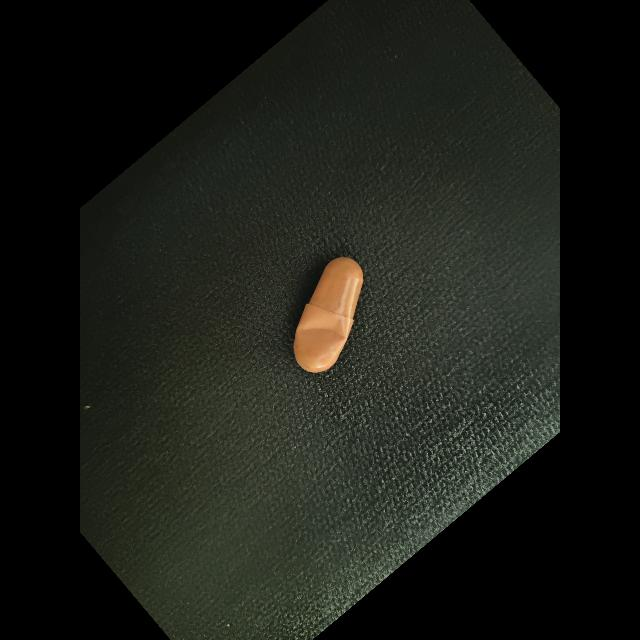Defective Capsule: (297, 316, 345, 352)
